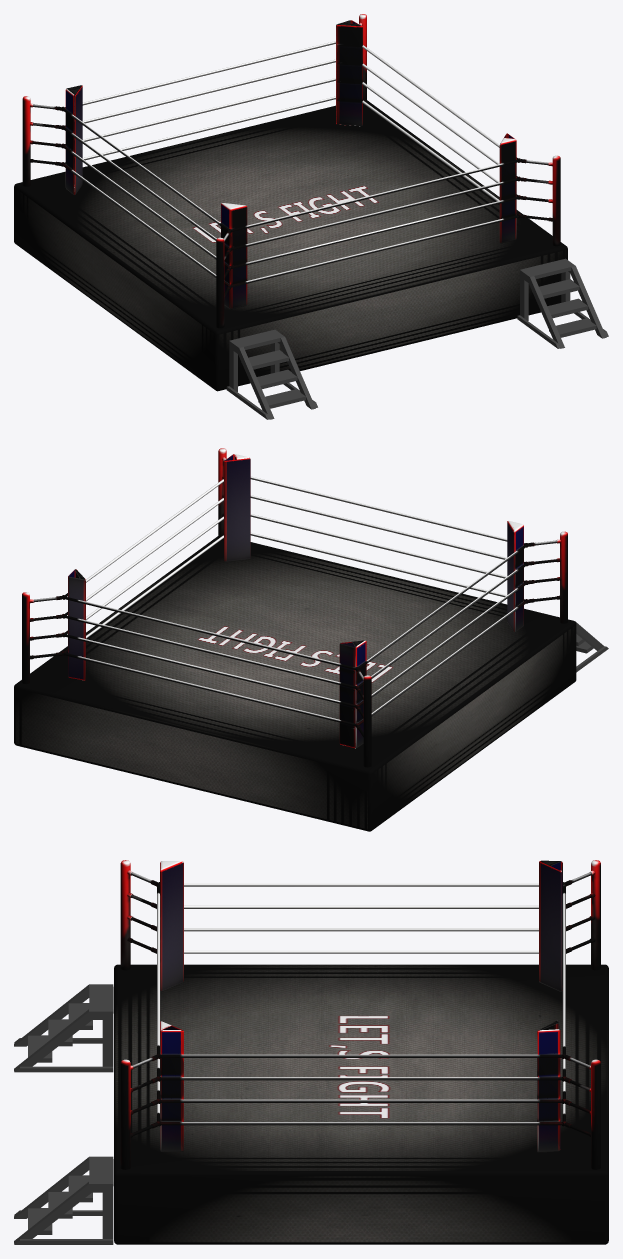
Rendered from baked ring 01.fbx.
3 renders of one model, top to bottom at view 1: azimuth 30°, elevation 25°; view 2: azimuth 150°, elevation 25°; view 3: azimuth 270°, elevation 25°, orthographic. The views are drawn at different scales.
Visible parts, largest first — view 1: polySurface115, polySurface225, polySurface113, polySurface109, polySurface111, polySurface112, polySurface110; view 2: polySurface115, polySurface225, polySurface112, polySurface110, polySurface109, polySurface111, polySurface113; view 3: polySurface115, polySurface225, polySurface113, polySurface110, polySurface111, polySurface109, polySurface112.
Part boxes in pixels (x1,y1,x2,y2): polySurface115: (14,100,567,391); polySurface225: (22,14,560,328); polySurface113: (226,258,608,419); polySurface109: (336,20,362,126); polySurface111: (221,203,247,309); polySurface112: (499,133,516,243); polySurface110: (65,85,82,194); polySurface115: (14,536,576,831); polySurface225: (22,448,567,767); polySurface112: (224,454,250,561); polySurface110: (339,640,366,748); polySurface109: (68,569,85,680); polySurface111: (507,521,523,632); polySurface113: (575,621,608,672); polySurface115: (114,964,608,1244); polySurface225: (120,860,600,1169); polySurface113: (14,984,113,1244); polySurface110: (539,860,562,991); polySurface111: (160,861,183,991); polySurface109: (537,1021,560,1152); polySurface112: (160,1021,183,1151).
Bounding box in the file's own units: 610 × 267 × 733.
Materials: 4 (3 with a texture image).
